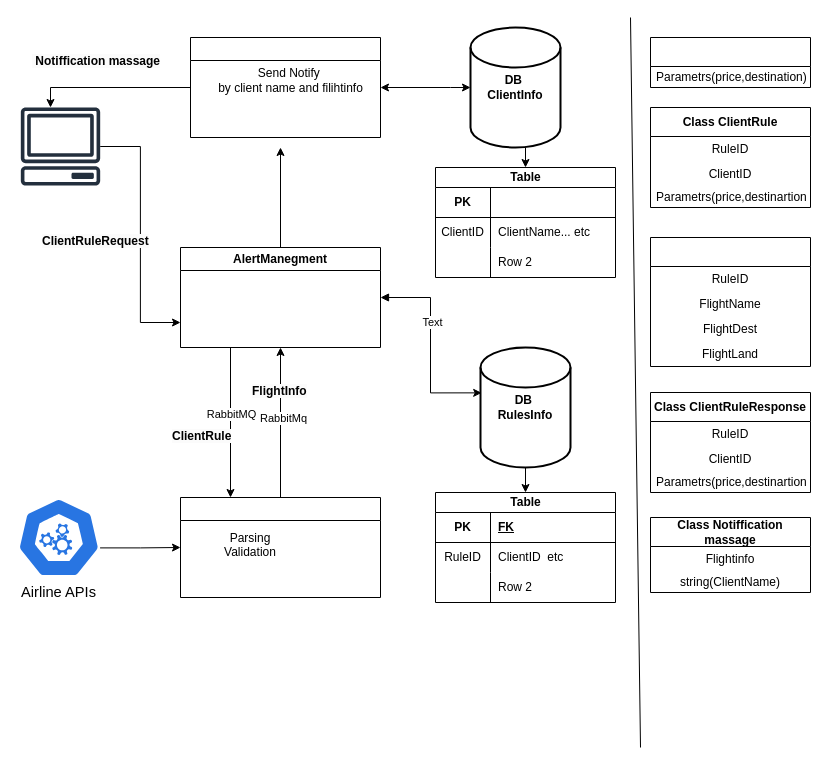
This 829x766 diagram has some shape labels left out. Each missing label, with the box of its shape:
AirlinePriceReciver: (180, 496, 380, 598)
Class ClientRuleRequest: (650, 36, 810, 88)
Class FlightInfo: (650, 236, 810, 366)
Client: (20, 107, 100, 185)
NotificationManager: (190, 36, 380, 138)
